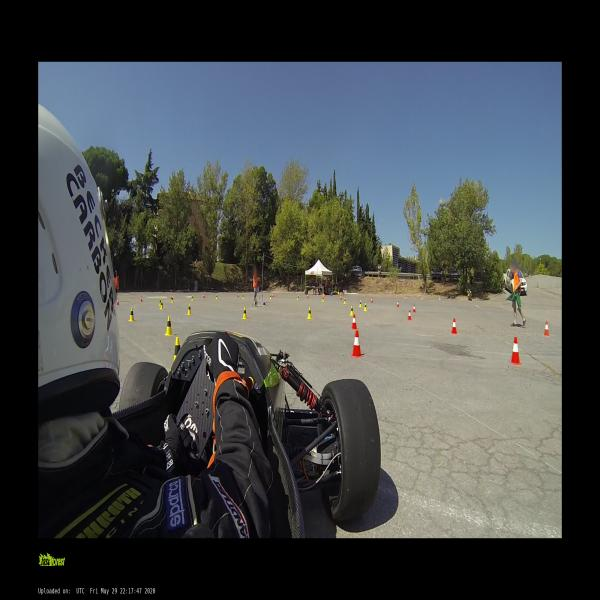orange_cone: (349, 330, 364, 358), (510, 336, 521, 364), (543, 320, 550, 337), (452, 318, 457, 335), (352, 314, 357, 328), (408, 310, 412, 320), (413, 304, 416, 313), (370, 296, 372, 304), (117, 297, 119, 305), (397, 300, 399, 307), (237, 292, 239, 298), (340, 295, 342, 300), (203, 293, 205, 298), (307, 294, 309, 298), (272, 293, 274, 297), (141, 296, 142, 302)
yellow_cone: (170, 337, 181, 358), (165, 316, 173, 336), (242, 306, 247, 320), (129, 308, 134, 322), (307, 307, 312, 319), (187, 304, 191, 315), (350, 305, 354, 316), (160, 301, 163, 309), (364, 303, 367, 311), (359, 300, 362, 307), (322, 295, 325, 302), (159, 298, 161, 306), (192, 295, 194, 301), (216, 294, 218, 300), (344, 298, 346, 303), (297, 295, 299, 300), (172, 296, 173, 302), (270, 294, 271, 299), (243, 294, 244, 299)
